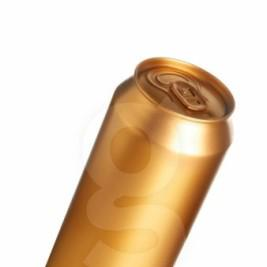beer: (46, 56, 236, 267)
